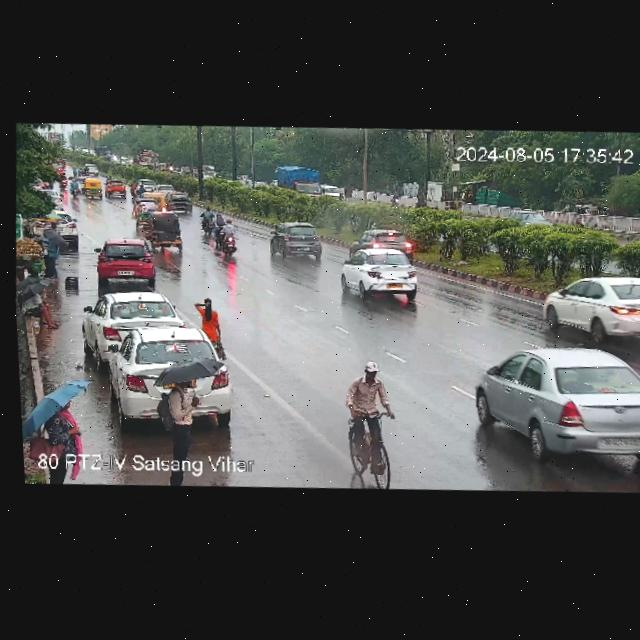car: (456, 309, 640, 484), (97, 316, 245, 432), (535, 262, 640, 355), (338, 243, 427, 309), (264, 210, 331, 269), (91, 236, 162, 290), (146, 203, 192, 264), (358, 224, 421, 268), (34, 204, 87, 255), (501, 204, 565, 232), (126, 194, 168, 230), (164, 185, 199, 219), (145, 179, 181, 205), (320, 183, 360, 204), (38, 186, 71, 211), (82, 173, 107, 203), (103, 178, 132, 203), (153, 178, 183, 200), (135, 177, 158, 197), (82, 160, 105, 177), (635, 196, 640, 244), (117, 152, 134, 165), (178, 164, 193, 178), (238, 173, 254, 185)
motorcycle: (308, 349, 449, 494), (214, 215, 245, 260), (199, 203, 220, 235), (384, 189, 409, 207), (67, 175, 84, 199), (335, 186, 354, 202), (57, 171, 72, 191), (190, 163, 202, 181), (71, 161, 82, 177)
person: (74, 281, 192, 378), (147, 353, 230, 458), (20, 374, 102, 454), (15, 272, 63, 333), (190, 287, 233, 352), (38, 227, 73, 283)
truck: (276, 163, 326, 194), (135, 145, 162, 169), (93, 139, 118, 161)
